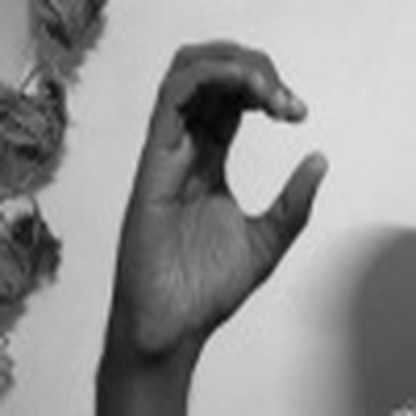c: (107, 19, 338, 346)
